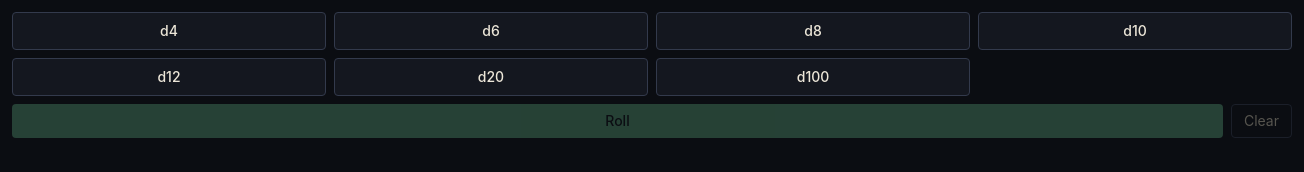
Scenario: DiceTray › clears the queue after rolling
What coordinates should you click on to do the following:
click the button "d20"
I would click on:
 (491, 77)
Its box is [334,58,648,96].
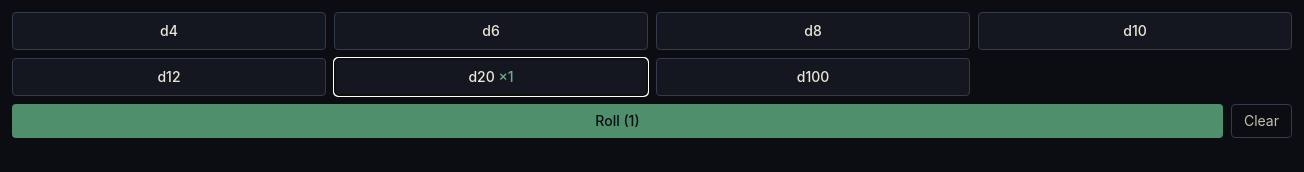
What coordinates should you click on to do the following:
click the button "Roll (1)"
I would click on:
 (617, 121)
Its box is [12,104,1223,138].
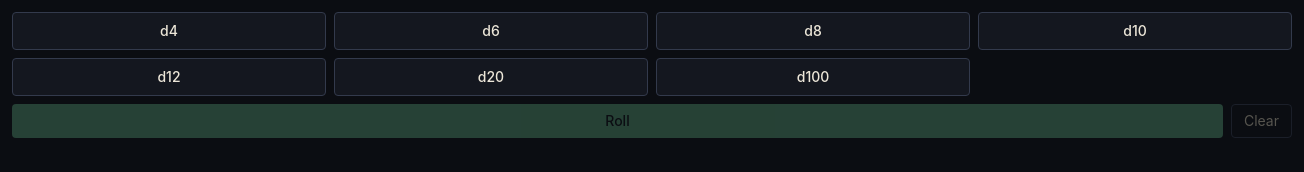
Check: the button "Roll" is disabled, box [12,104,1223,138]
